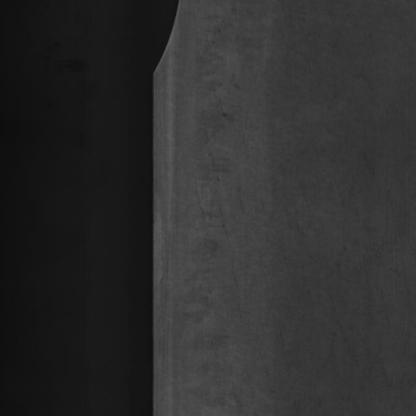crescent_gap: (143, 0, 201, 97)
